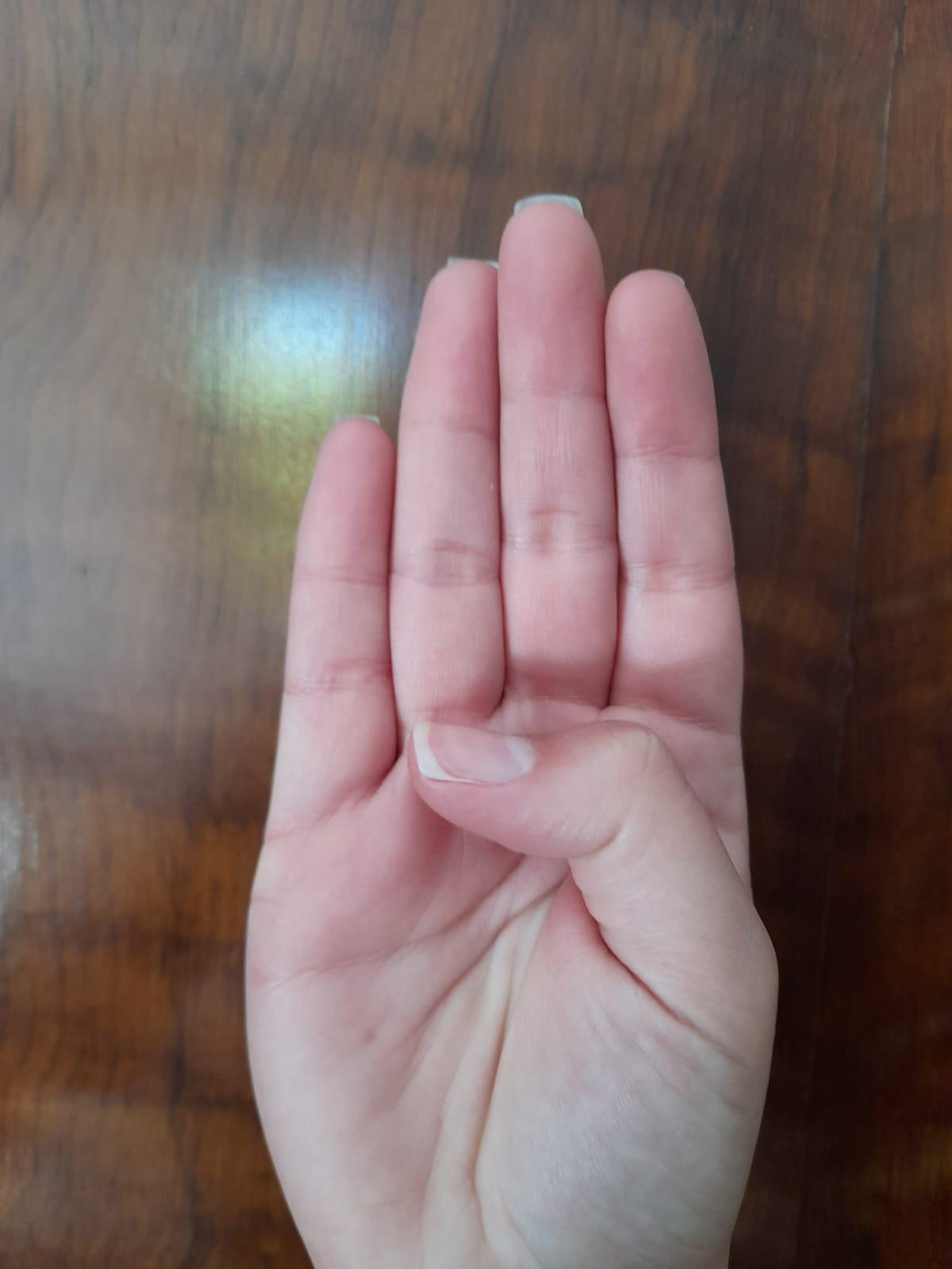B: (206, 155, 841, 1269)
